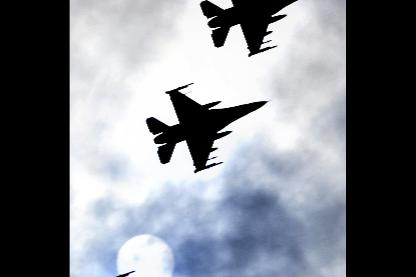F14: (146, 82, 272, 173), (200, 0, 328, 57)
